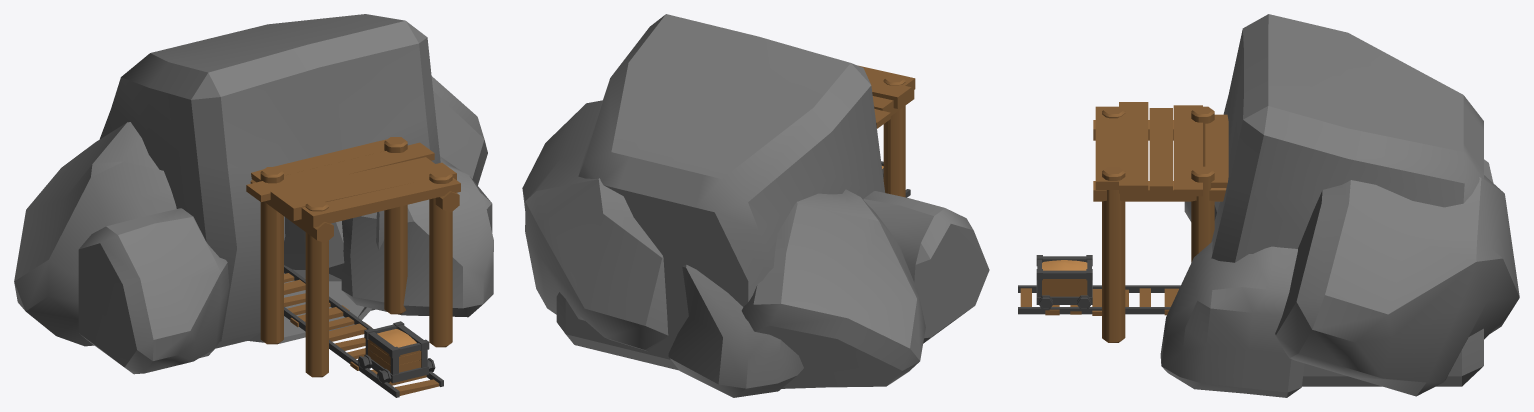
File: MineShaft.fbx
The picture shows the model from 3 angles, left to right: view 1: azimuth 30°, elevation 25°; view 2: azimuth 150°, elevation 25°; view 3: azimuth 270°, elevation 25°; orthographic projection. The views are drawn at different scales.
Parts seen in each view (by area): view 1: Cube.043; view 2: Cube.043; view 3: Cube.043.
Boxes of the visible parts, x1=… form: Cube.043: x1=14, y1=14, x2=493, y2=397; Cube.043: x1=522, y1=14, x2=989, y2=397; Cube.043: x1=1018, y1=14, x2=1519, y2=397.
Bounding box in the file's own units: 90.51 × 62.38 × 91.85.
